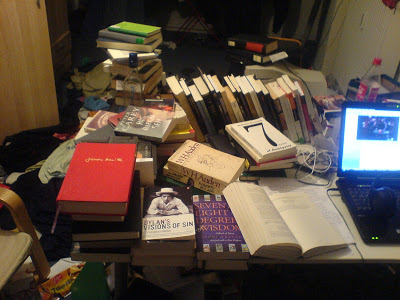Open Book: (226, 180, 350, 260)
